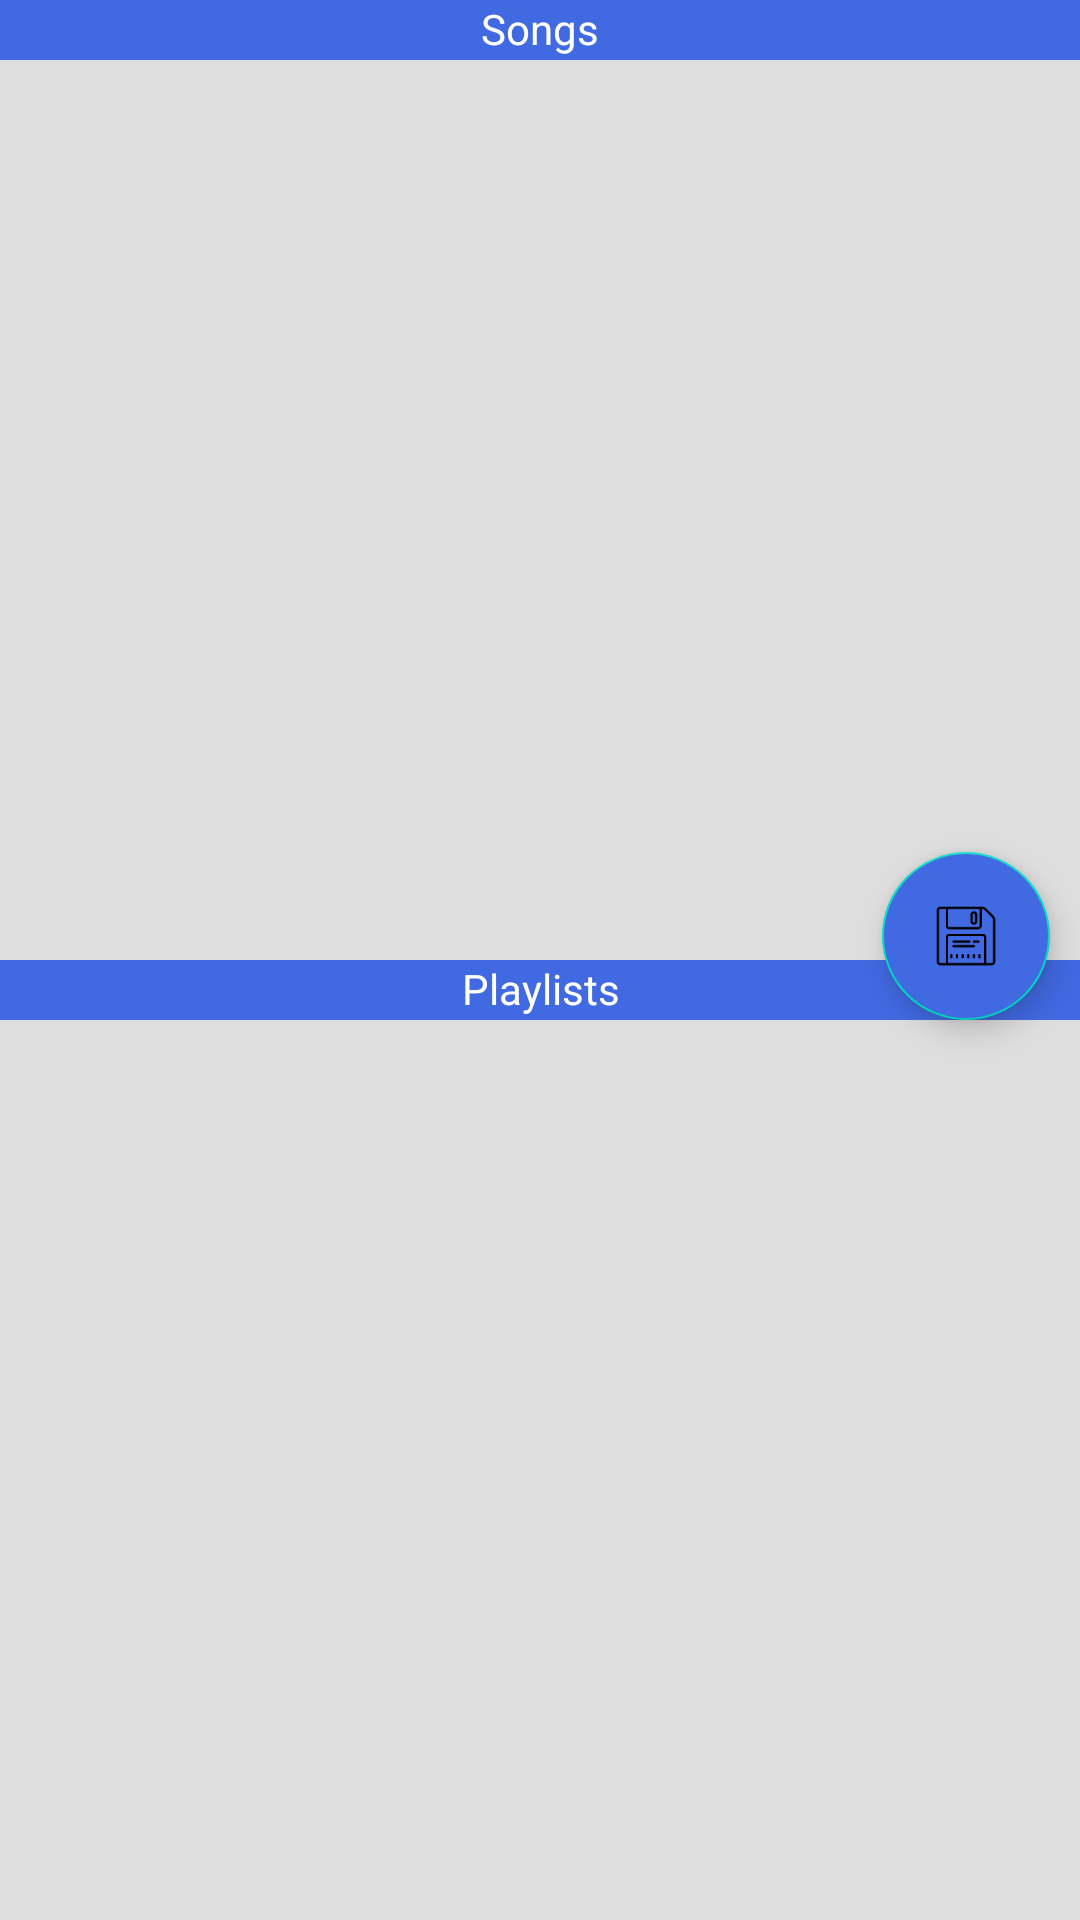

Screen size 1080 x 1920. Icon name, then its center in pixels as [x,y]:
save: [966,936]
